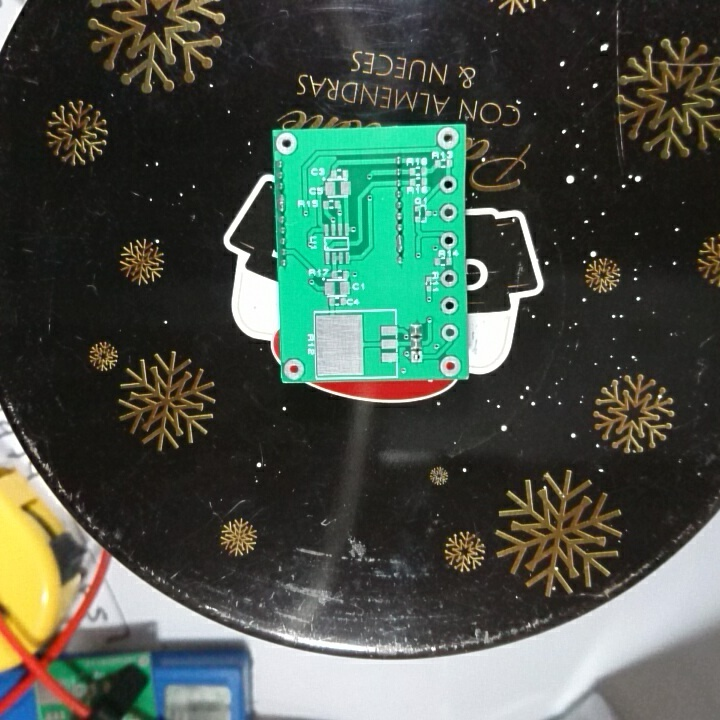F: (435, 124, 462, 151), (275, 130, 299, 158), (283, 355, 307, 382), (439, 351, 461, 378), (438, 199, 459, 224), (439, 172, 459, 198), (439, 226, 459, 252), (440, 292, 459, 319), (440, 320, 461, 344), (438, 267, 460, 289), (408, 348, 424, 366)
P: (275, 192, 290, 215), (395, 232, 408, 255)
